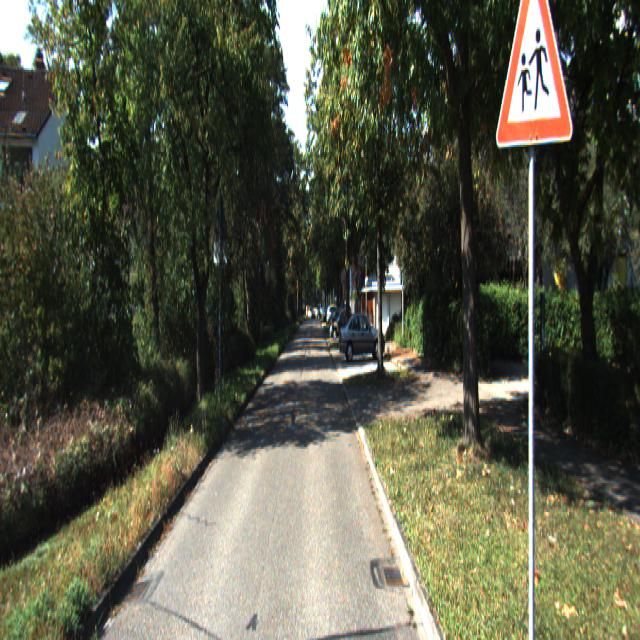Car: (338, 309, 385, 362)
